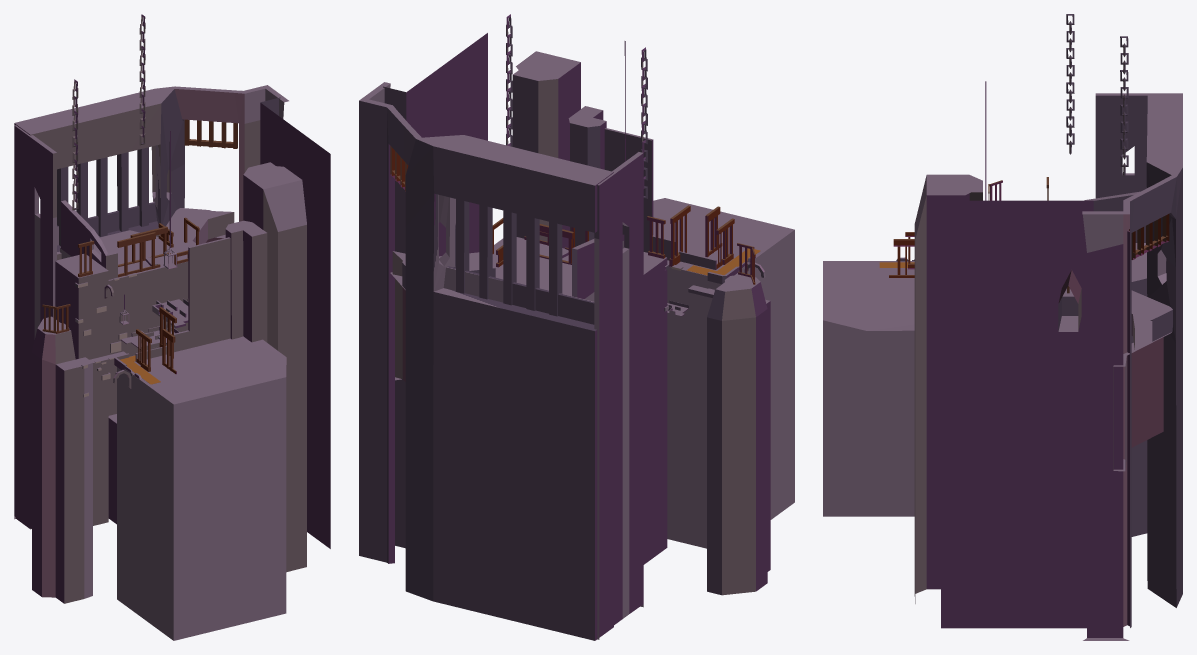
Rendered from PT_Sce_03_a.FBX.
The picture shows the model from 3 angles, left to right: view 1: azimuth 30°, elevation 25°; view 2: azimuth 150°, elevation 25°; view 3: azimuth 270°, elevation 25°; orthographic projection. The views are drawn at different scales.
Visible parts, largest first — view 1: PT_Sce_03_a; view 2: PT_Sce_03_a; view 3: PT_Sce_03_a.
Part boxes in pixels (x1,y1,x2,y2): PT_Sce_03_a: (14, 14, 330, 640); PT_Sce_03_a: (359, 14, 794, 640); PT_Sce_03_a: (823, 14, 1182, 640).
Size of the model in its own units: 6689 by 10751 by 6516.
